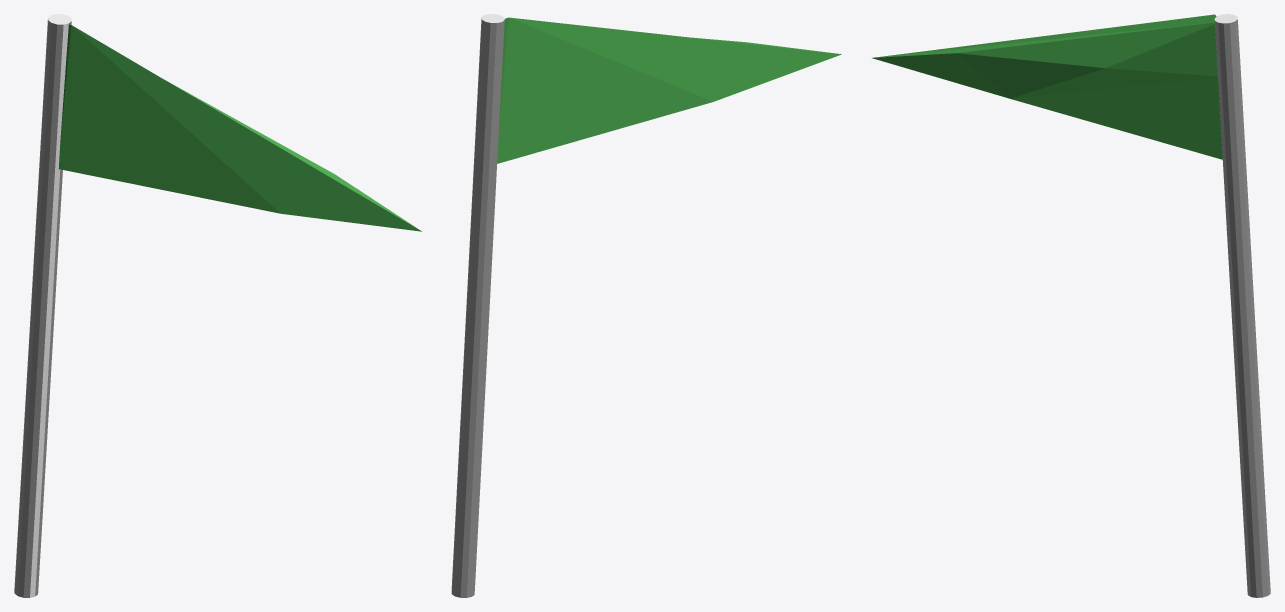
The model's file is golf hole flag-transformed.glb.
The picture shows the model from 3 angles, left to right: view 1: azimuth 90°, elevation 25°; view 2: azimuth 150°, elevation 25°; view 3: azimuth 270°, elevation 25°; orthographic projection. The views are drawn at different scales.
Visible parts, largest first — view 1: Node; view 2: Node; view 3: Node.
Boxes of the visible parts, x1,y1,x2,y2 form: Node: [14, 14, 421, 597]; Node: [451, 14, 841, 597]; Node: [872, 14, 1270, 597].
Bounding box in the file's own units: 0.284 × 0.7855 × 0.5.
